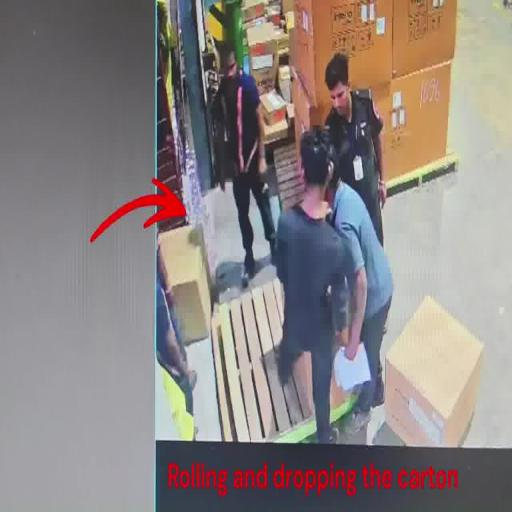carton: (386, 296, 485, 449), (285, 1, 392, 127), (383, 60, 454, 188), (158, 226, 212, 345), (392, 1, 458, 78), (289, 77, 325, 199)
forklift: (154, 1, 211, 441)
pallet: (211, 274, 317, 442), (272, 144, 300, 214)
person: (271, 129, 368, 443), (320, 126, 396, 414), (211, 40, 278, 284), (323, 51, 387, 248)
